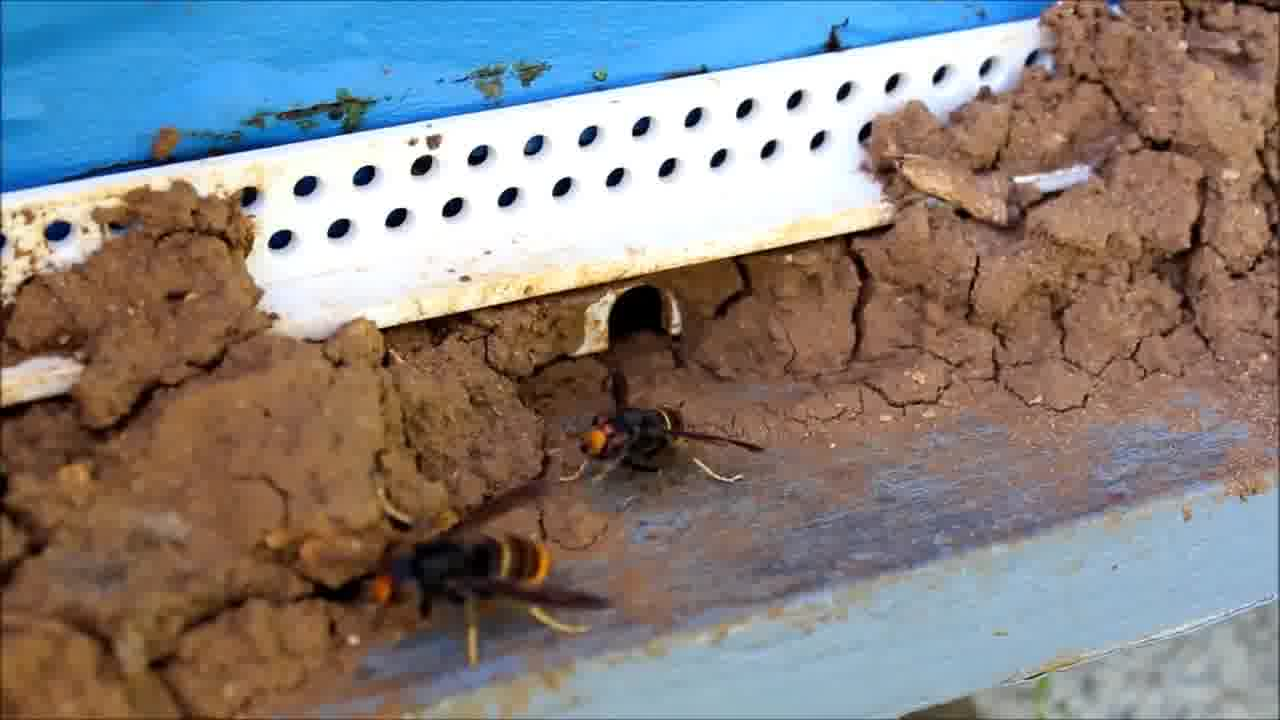hornet: (355, 516, 609, 639), (581, 384, 715, 475)
